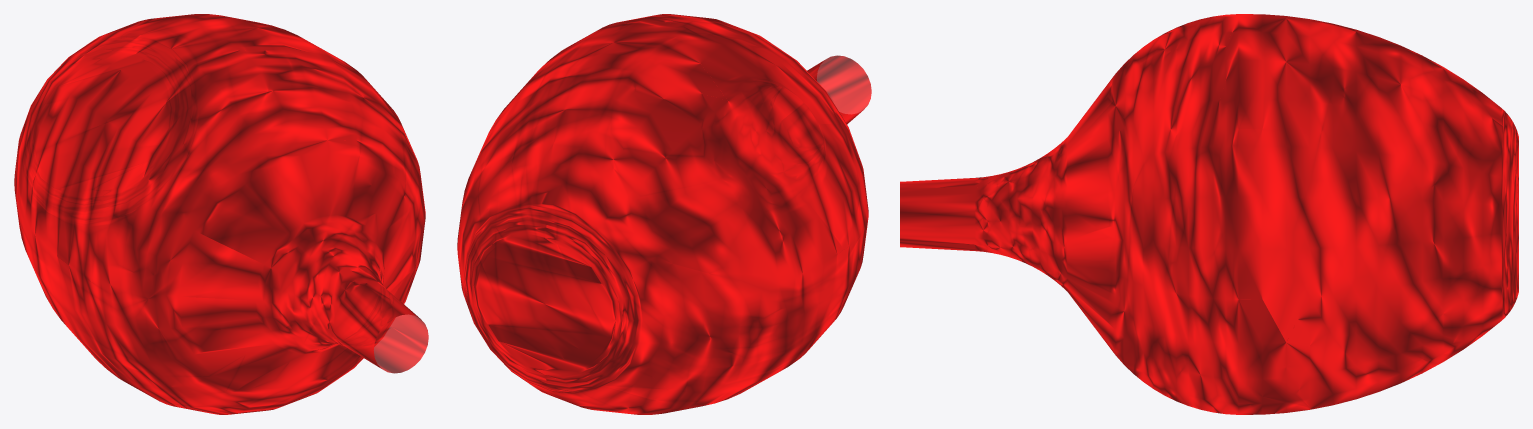
The model's file is model_align.obj.
The picture shows the model from 3 angles, left to right: view 1: azimuth 30°, elevation 25°; view 2: azimuth 150°, elevation 25°; view 3: azimuth 270°, elevation 25°; orthographic projection. The views are drawn at different scales.
Bounding box in the file's own units: 0.0732 × 0.0732 × 0.1124.
